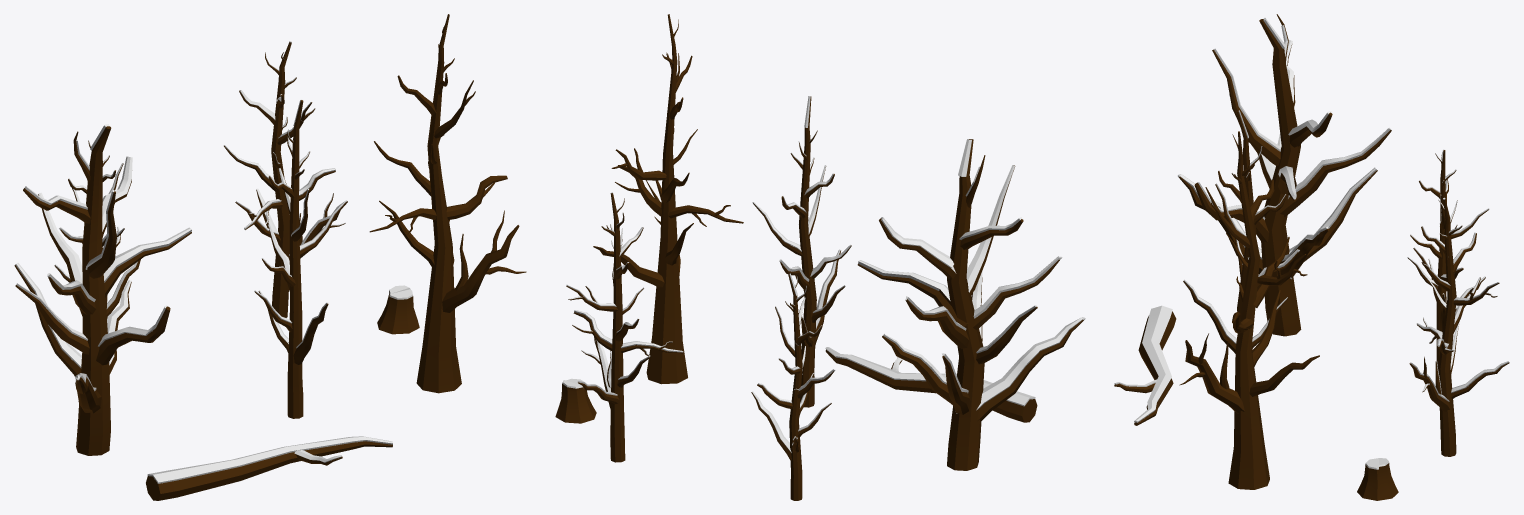
File: 冬天樹.glb
3 views of the same model, side by side, from view 1: azimuth 30°, elevation 25°; view 2: azimuth 150°, elevation 25°; view 3: azimuth 270°, elevation 25° (orthographic). The views are drawn at different scales.
Visible parts, largest first — view 1: Father_tree, Dead_tree_1; view 2: Father_tree, Dead_tree_1; view 3: Father_tree, Dead_tree_1.
Boxes of the visible parts, <box> form: Father_tree: <box>14,14,526,500</box>; Dead_tree_1: <box>15,41,412,483</box>; Father_tree: <box>555,14,1083,500</box>; Dead_tree_1: <box>562,96,1085,452</box>; Father_tree: <box>1114,14,1509,500</box>; Dead_tree_1: <box>1114,18,1509,469</box>.
Size of the model in its own units: 0.1921 by 0.1478 by 0.15.
